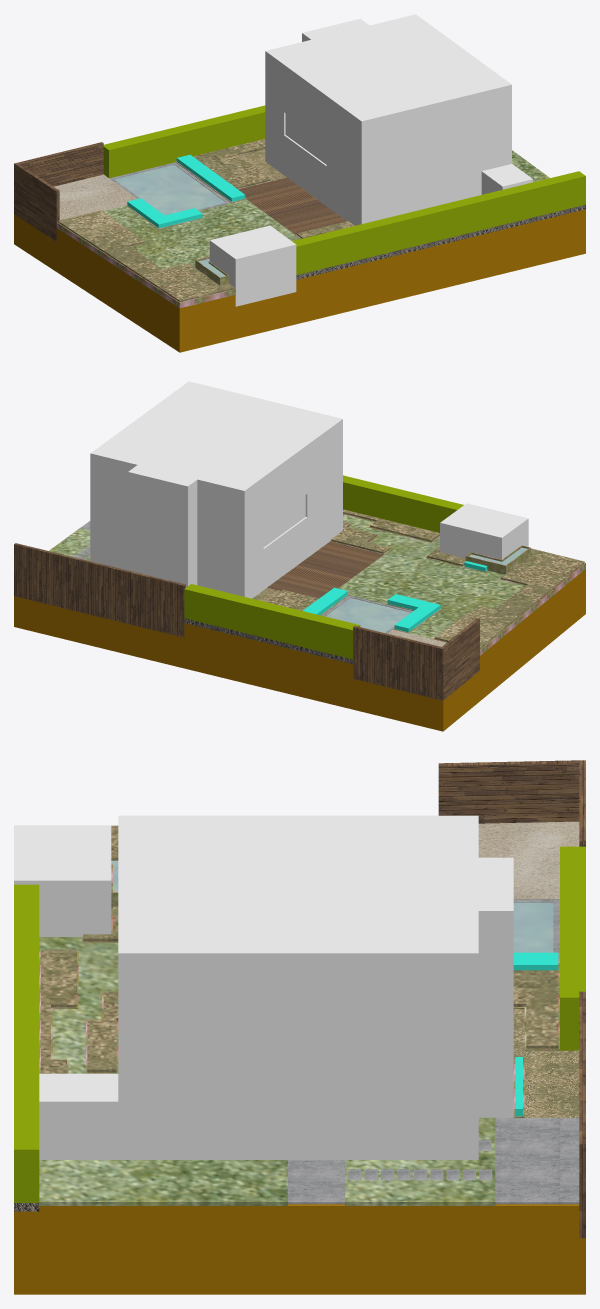
3 views of the same model, one above another, from view 1: azimuth 30°, elevation 25°; view 2: azimuth 150°, elevation 25°; view 3: azimuth 270°, elevation 25° (orthographic). The views are drawn at different scales.
Visible parts, largest first — view 1: L_17, L_01, L_15, L_09, L_10, L_16, L_12, L_14, L_03, L_07, L_08, L_05 (+3 smaller); view 2: L_17, L_01, L_16, L_15, L_10, L_09, L_14, L_05, L_12, L_08, L_03, L_06; view 3: L_17, L_01, L_10, L_15, L_11, L_16, L_03, L_09, L_07, L_13, L_12, L_05 (+1 smaller).
Part boxes in pixels (x1,y1,x2,y2): L_17: (209,14,532,306); L_01: (14,214,585,352); L_15: (103,105,585,274); L_09: (58,139,354,302); L_10: (103,150,549,269); L_16: (14,142,103,241); L_12: (114,164,225,277); L_14: (238,177,346,234); L_03: (56,209,585,313); L_07: (54,174,136,220); L_08: (127,154,245,228); L_05: (56,148,301,308); L_17: (90,381,528,598); L_01: (14,574,585,731); L_16: (14,543,479,700); L_15: (184,475,463,659); L_10: (49,514,524,639); L_09: (266,509,584,648); L_14: (267,542,383,598); L_05: (321,513,585,655); L_12: (325,547,527,632); L_08: (303,561,487,632); L_03: (184,569,585,669); L_06: (184,618,352,664); L_17: (14,815,513,1160); L_01: (14,1222,585,1294); L_10: (39,937,495,1205); L_15: (14,846,585,1202); L_11: (288,1118,579,1204); L_16: (438,760,585,1238); L_03: (14,1204,579,1222); L_09: (41,825,558,1073); L_07: (478,821,579,899); L_13: (513,1009,579,1117); L_12: (111,860,553,952); L_05: (39,857,559,1117).
Size of the model in its own units: 2773 by 1010 by 1748.
Materials: 13 (8 with a texture image).
